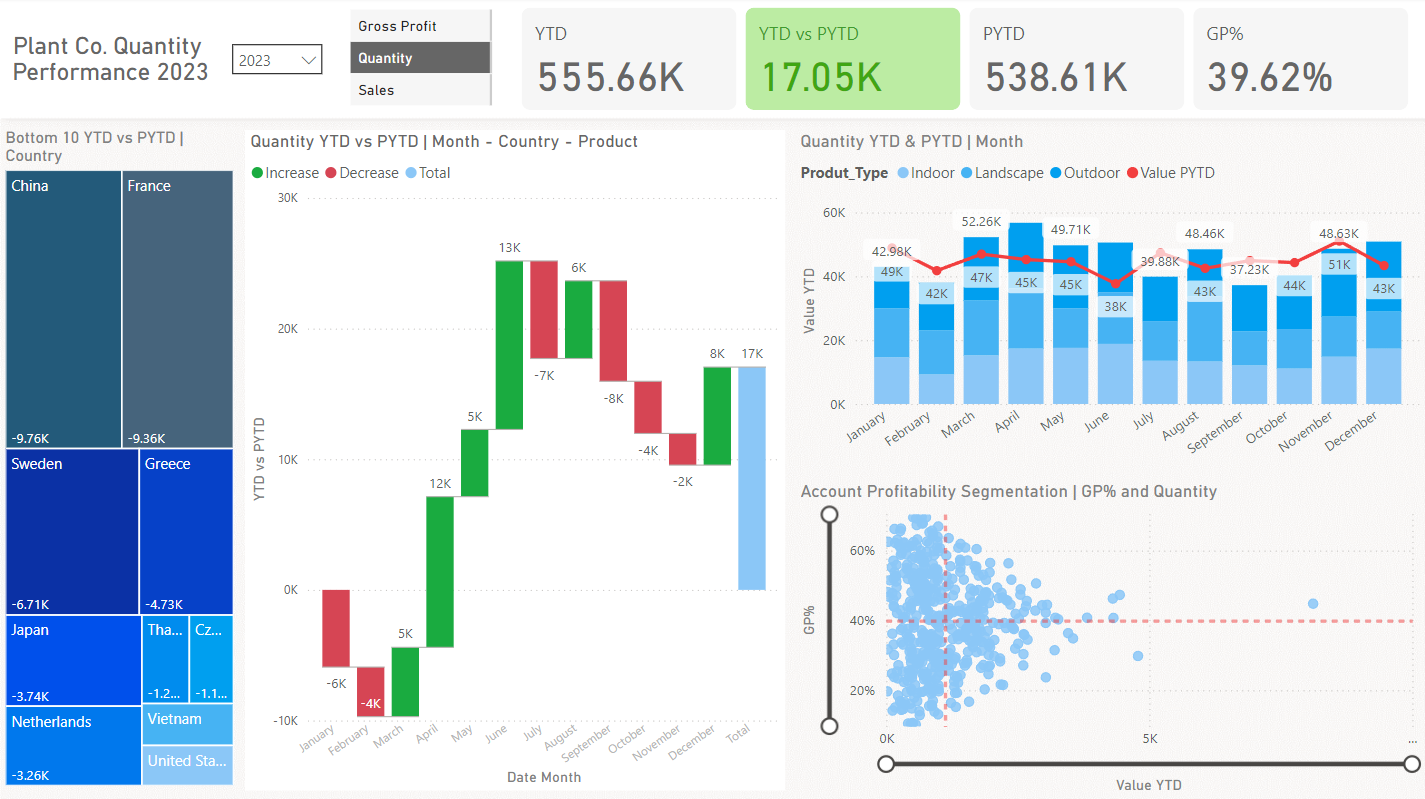

The dashboard page shown, as its layout file describes it:
{"tool":"powerbi","page":{"name":"Performance Report","canvas":[1280,720],"ordinal":0},"visuals":[{"type":"cardVisual","fields":{"Data":["_Measures.S_YTD","_Measures.YTD vs PYTD","_Measures.S_PYTD","_Measures.GP%"]},"box":[463,4.2,806.2,102.1],"z":0},{"type":"advancedSlicerVisual","fields":{"Values":["Slc_Values.Values"]},"box":[309.8,5.9,137.3,98],"z":1000},{"type":"slicer","fields":{"Values":["Dim_Date.Date.Variation.Date Hierarchy.Year"]},"box":[198.4,32.7,101.3,50.2],"z":2000},{"type":"treemap","title":"Bottom 10 YTD vs PYTD | Country","fields":{"Values":["_Measures.YTD vs PYTD"],"Group":["Dim_Account.country"]},"box":[0,118.7,214.6,594.4],"z":3000},{"type":"waterfallChart","fields":{"Y":["_Measures.YTD vs PYTD"],"Category":["Dim_Date.Date.Variation.Date Hierarchy.Month","Dim_Account.country","Dim_Product.Produt_Type","Dim_Product.Product_Name"]},"box":[220.3,119.6,485.2,593.5],"z":4000},{"type":"lineStackedColumnComboChart","fields":{"Y":["_Measures.S_YTD"],"Y2":["_Measures.S_PYTD"],"Category":["Dim_Date.Date.Variation.Date Hierarchy.Quarter","Dim_Date.Date.Variation.Date Hierarchy.Month"],"Series":["Dim_Product.Produt_Type"]},"box":[714.1,119.6,565.9,314.3],"z":5000},{"type":"scatterChart","fields":{"Y":["_Measures.GP%"],"X":["_Measures.S_YTD"],"Category":["Dim_Account.Account"]},"box":[714.1,433.9,565.9,285.8],"z":6000},{"type":"card","fields":{"Values":["_Measures._Report title"]},"box":[0,20.9,198.5,68.4],"z":7000}]}

Visuals, with their boxes in screenshot pixels (x1, y1, x2, y2), scaled from the page's 1280x720 canvas onto the 1425x799 screenshot:
cardVisual - _Measures.S_YTD x _Measures.YTD vs PYTD: box(515, 5, 1413, 118)
advancedSlicerVisual - Slc_Values.Values: box(345, 7, 498, 115)
slicer - Dim_Date.Date.Variation.Date Hierarchy.Year: box(221, 36, 334, 92)
"Bottom 10 YTD vs PYTD | Country" treemap: box(0, 132, 239, 791)
waterfallChart - _Measures.YTD vs PYTD x Dim_Date.Date.Variation.Date Hierarchy.Month: box(245, 133, 785, 791)
lineStackedColumnComboChart - _Measures.S_YTD x _Measures.S_PYTD: box(795, 133, 1424, 482)
scatterChart - _Measures.GP% x _Measures.S_YTD: box(795, 482, 1424, 798)
card - _Measures._Report title: box(0, 23, 221, 99)
